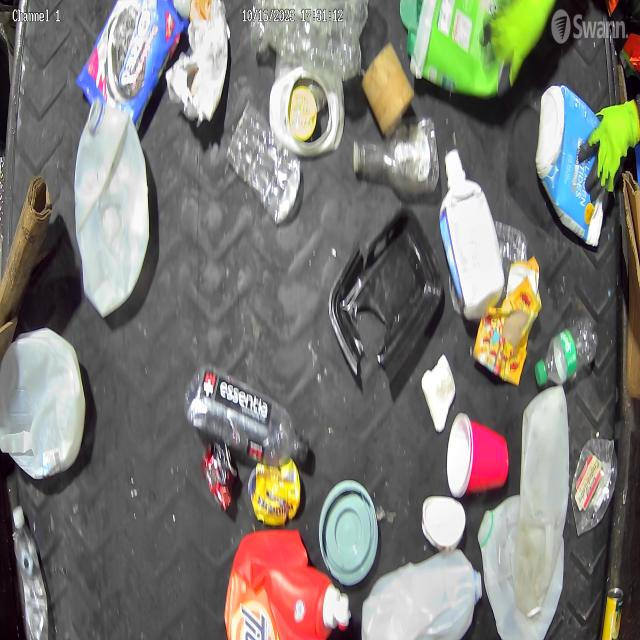can: (360, 48, 420, 137), (205, 434, 242, 518)
milk_jug: (70, 94, 151, 322), (0, 327, 86, 489), (478, 497, 561, 639), (363, 551, 483, 640), (518, 387, 576, 543)
non_white_jug: (221, 522, 354, 640)
plastic_bottle: (186, 353, 313, 473), (9, 501, 50, 640), (536, 324, 604, 390)
